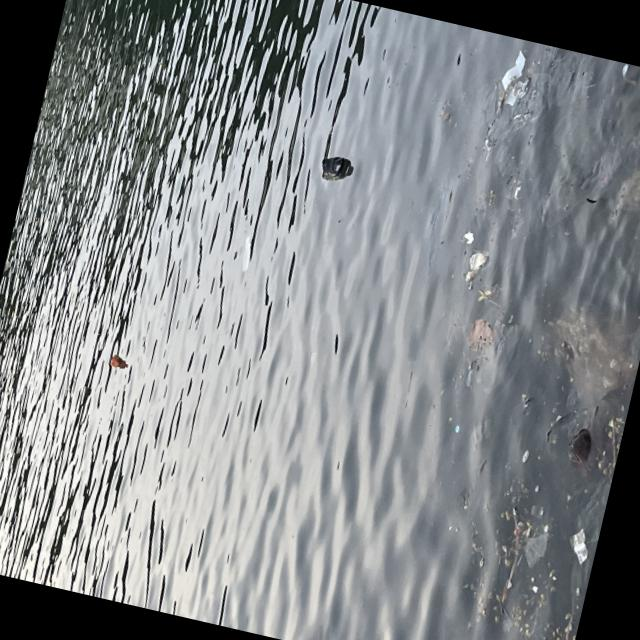plastic bottle: (111, 354, 122, 368)
